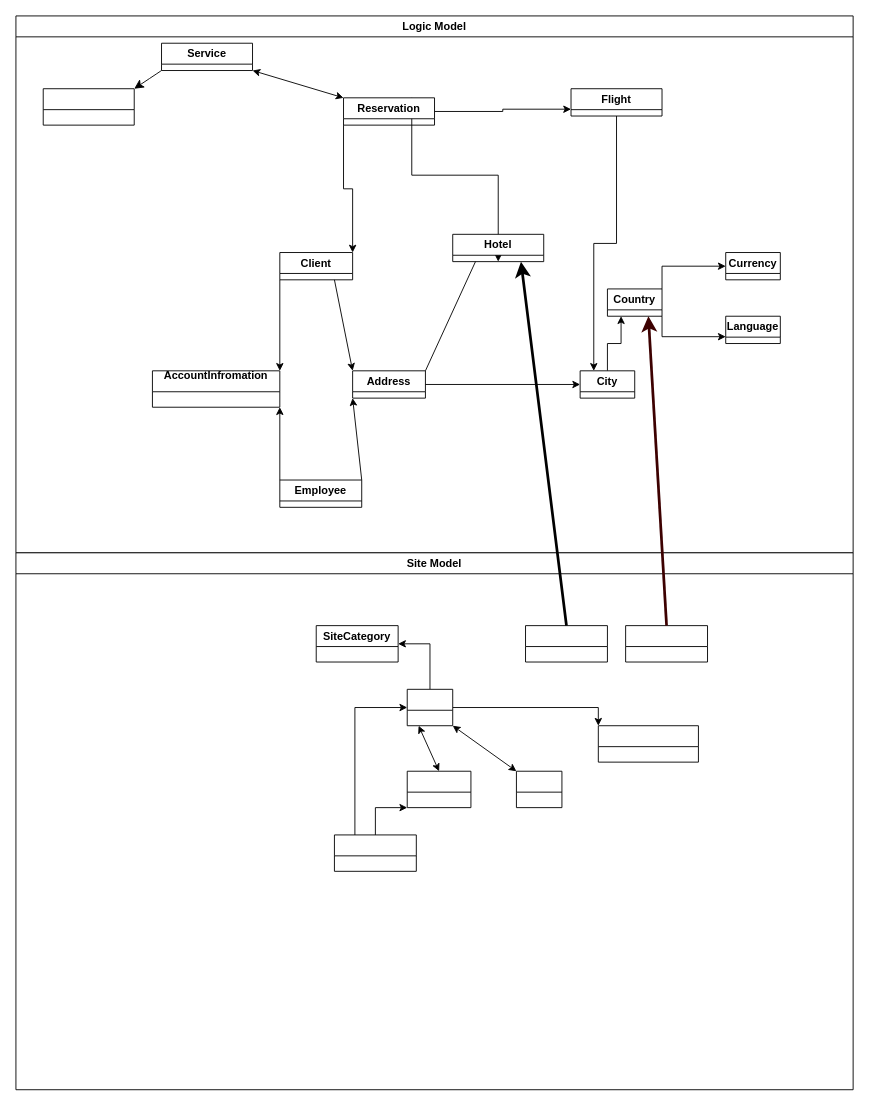
Some shapes in this 869 by 1106 pixel diagram are drawn without their labels. Each missing label, with the centre of its shape:
"Card" belongs at (539,789).
"CountryPhoto" belongs at (666,643).
"HotelPhoto" belongs at (566,643).
"ListElement" belongs at (375,852).
"MainPage" belongs at (647,743).
"PageList" belongs at (438,789).
"ServiceType" belongs at (88,106).
"Site" belongs at (429,707).
